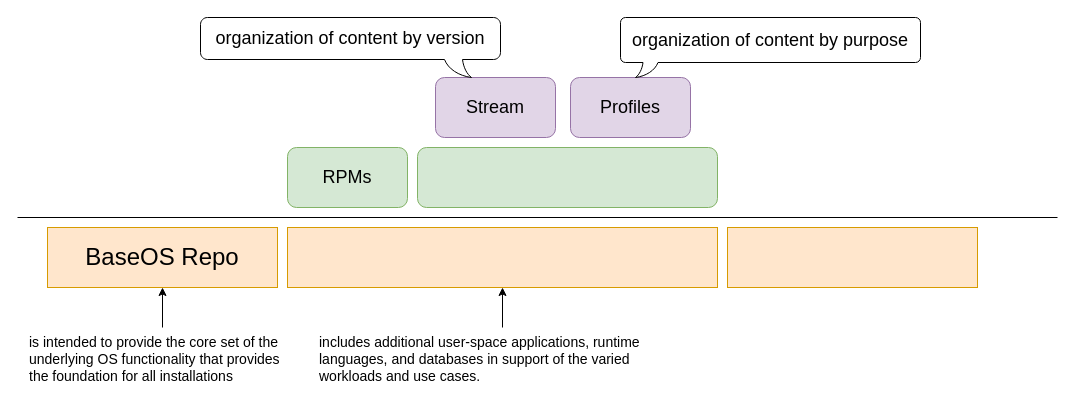
The diagram is 1076 pixels wide and 415 high, and some of its shapes have lost their labels. Here are the shapes that lost their labels. From the top down, the centre of each, then its label:
pixel 567 177: Modules
pixel 502 257: AppStream Repo
pixel 852 257: Third-Party Repos
